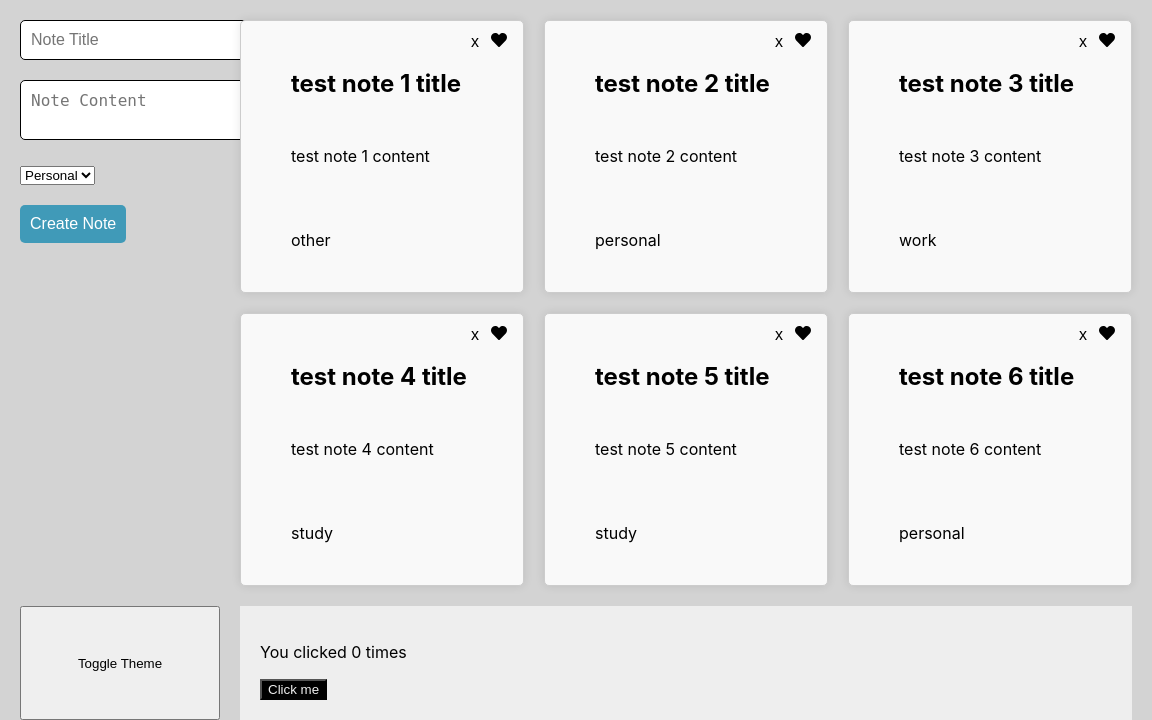
Test: Create StickyNote › delete a note
Check: the button with test id "delete-note-1" is shown, box x1=465 y1=31 x2=485 y2=53
Type "Note" into the field with placeholder "Note Title" at (134, 40), box x1=20 y1=20 x2=249 y2=60
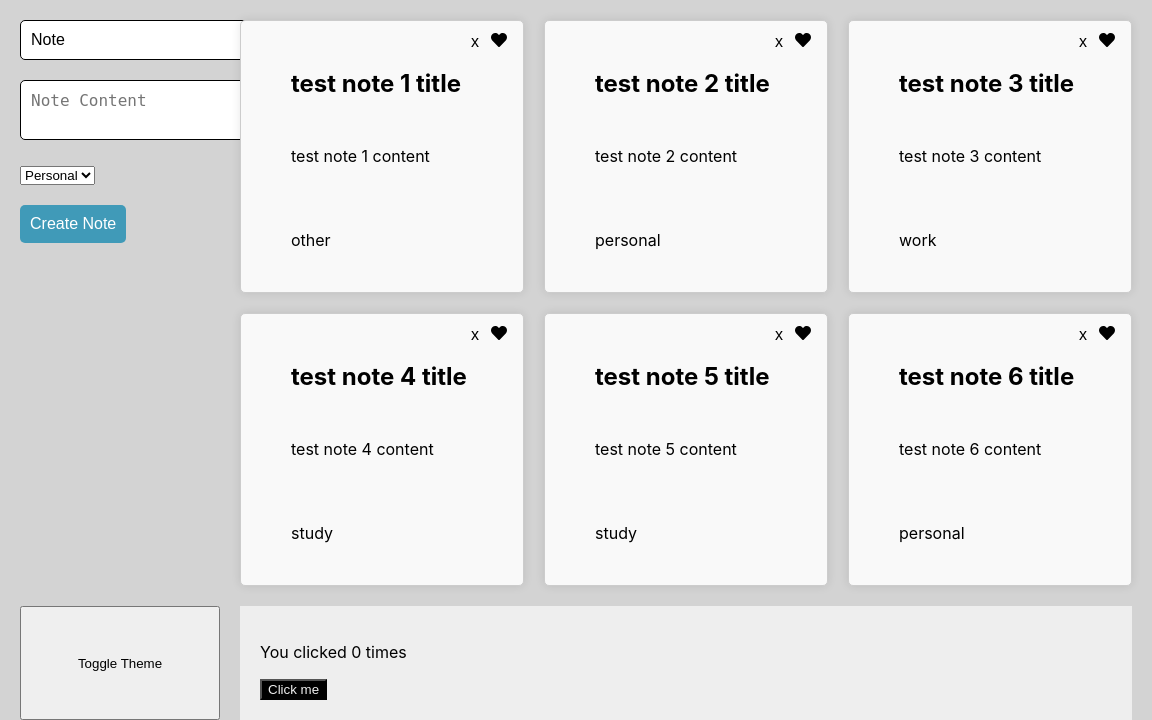
Type "Content" into the text box with placeholder "Note Content" at (138, 110), box x1=20 y1=80 x2=257 y2=140
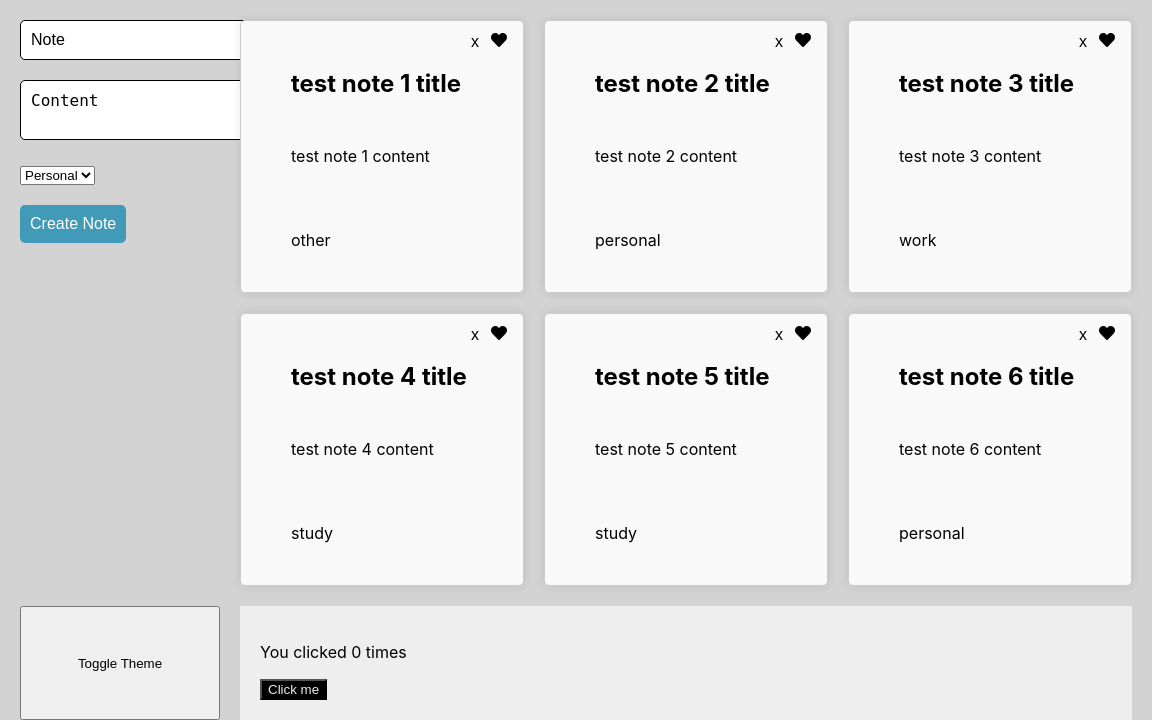
Click the button "Create Note" at (73, 224), box x1=20 y1=205 x2=126 y2=243
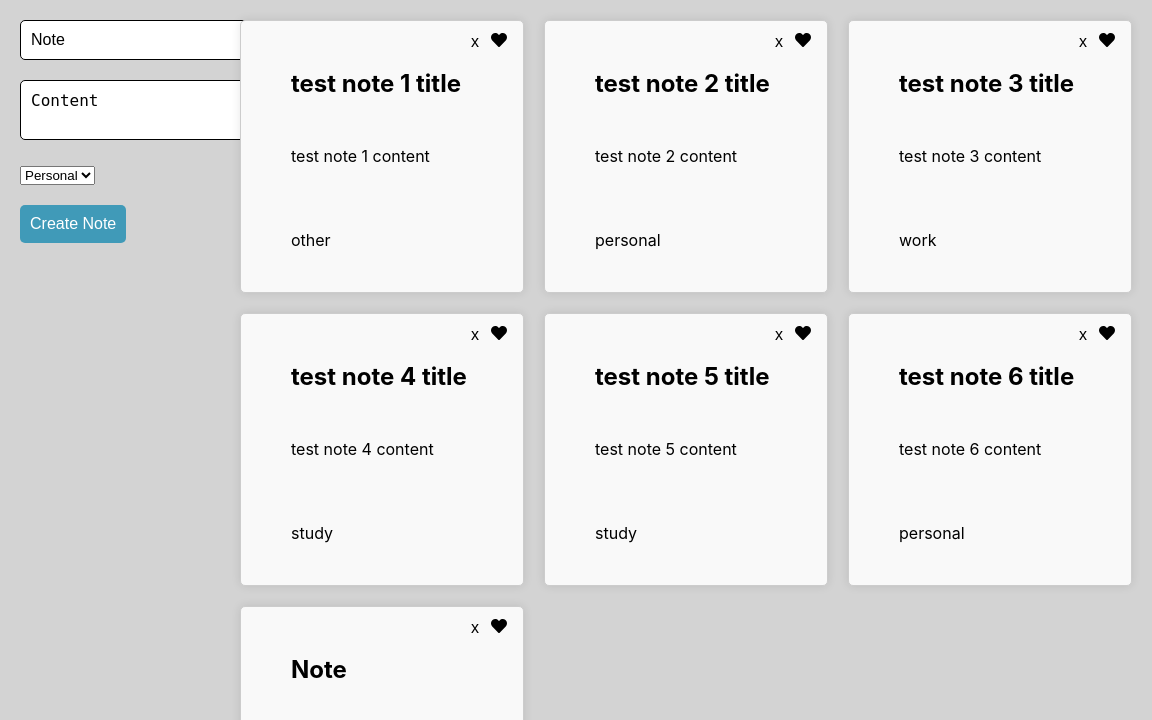
Click the button with test id "delete-note-1" at (475, 42), box x1=465 y1=31 x2=485 y2=53
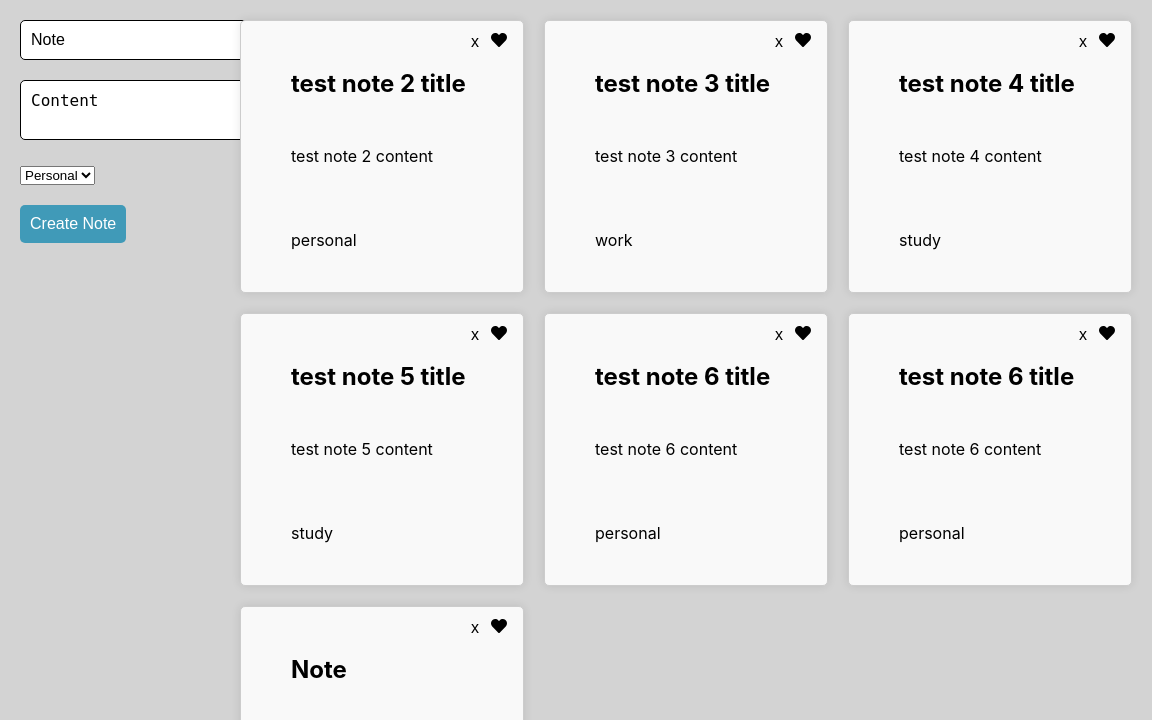
Check: the element with test id "note-1" is gone
